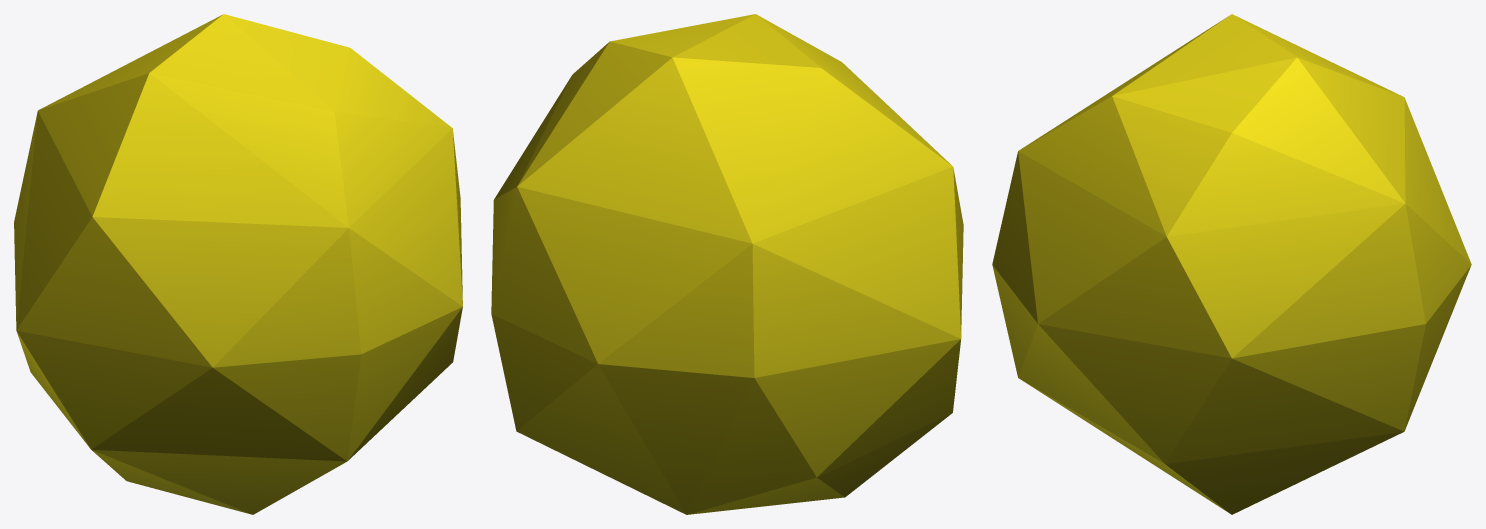
The model's file is Acorazado.fbx.
3 renders of one model, left to right at view 1: azimuth 30°, elevation 25°; view 2: azimuth 150°, elevation 25°; view 3: azimuth 270°, elevation 25°, orthographic. The views are drawn at different scales.
Parts seen in each view (by area): view 1: Icosphere.002; view 2: Icosphere.002; view 3: Icosphere.002.
Boxes of the visible parts, box(x1,y1,x2,y2) form: Icosphere.002: box(14, 14, 462, 514); Icosphere.002: box(491, 14, 963, 514); Icosphere.002: box(992, 14, 1471, 514).
Bounding box in the file's own units: 282 × 268 × 270.
